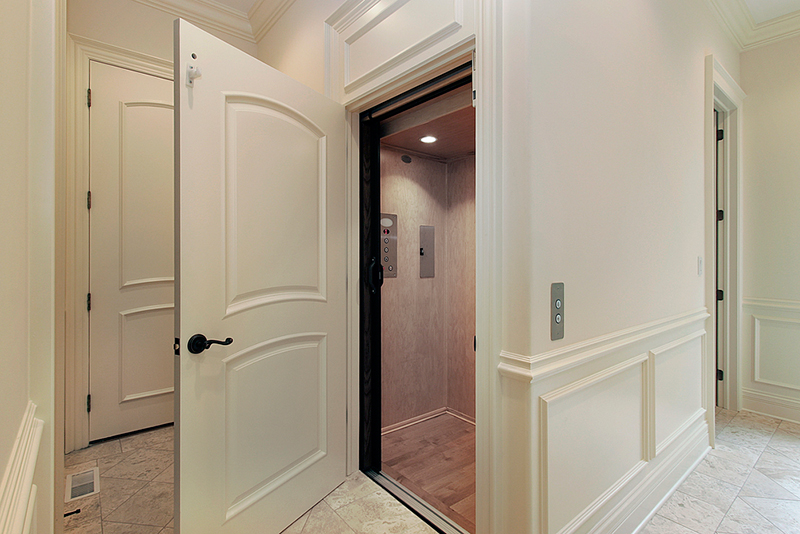door_handle: (186, 334, 235, 354)
elevator_panel: (377, 211, 397, 279), (548, 286, 565, 339)
